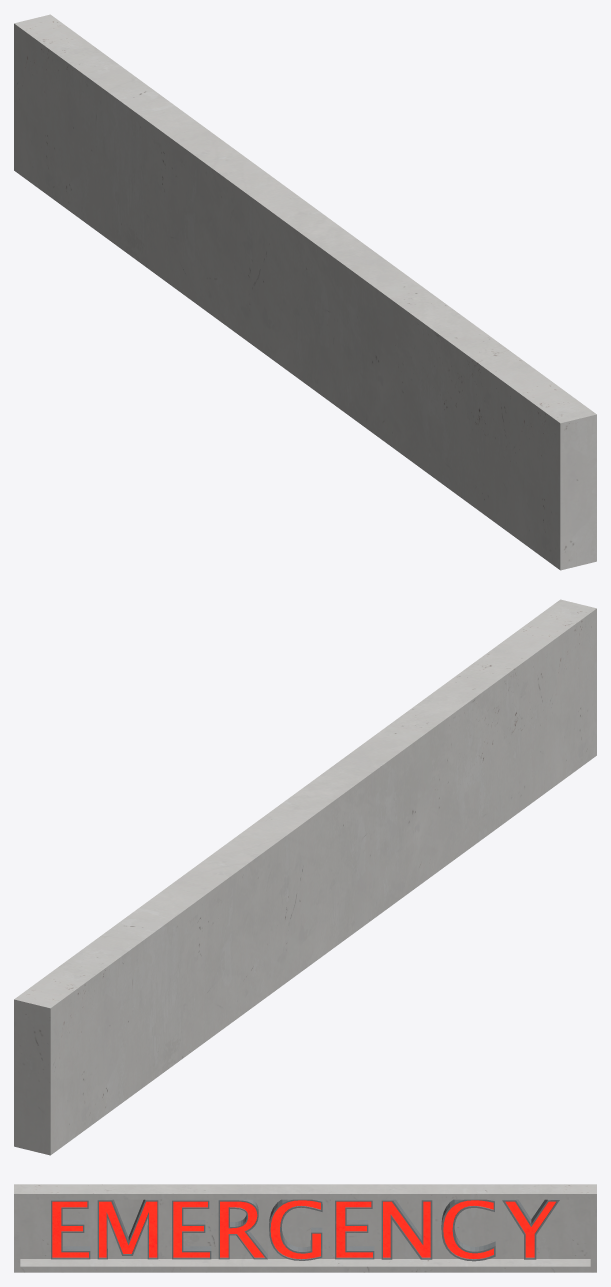
The model's file is EMERGENCY_SIGN.fbx.
3 renders of one model, top to bottom at view 1: azimuth 30°, elevation 25°; view 2: azimuth 150°, elevation 25°; view 3: azimuth 270°, elevation 25°, orthographic. The views are drawn at different scales.
Visible parts, largest first — view 1: KB3D_ECE_BldgIntHallway_A_SignB; view 2: KB3D_ECE_BldgIntHallway_A_SignB; view 3: KB3D_ECE_BldgIntHallway_A_SignB.
Boxes of the visible parts, x1,y1,x2,y2 form: KB3D_ECE_BldgIntHallway_A_SignB: (14,14,596,570); KB3D_ECE_BldgIntHallway_A_SignB: (14,599,596,1155); KB3D_ECE_BldgIntHallway_A_SignB: (14,1184,596,1272).
Size of the model in its own units: 8.49 by 32.68 by 220.
